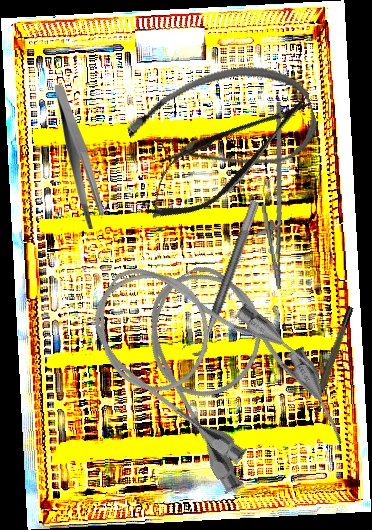Cannula: (68, 232, 328, 474), (120, 240, 355, 507), (119, 48, 325, 203)
Dressing Forceps: (54, 85, 104, 229)
Fixation Ring: (181, 194, 261, 360), (306, 305, 360, 415)
Micro Scissor: (129, 73, 327, 239)
Needle Holder: (239, 101, 305, 292)
